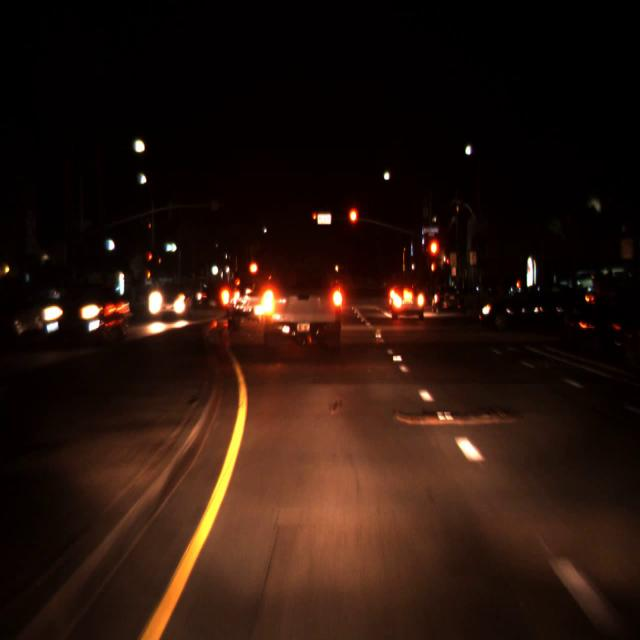stop: (427, 236, 441, 279), (347, 205, 359, 242)
stop left: (312, 212, 318, 226), (148, 252, 152, 266)
stop left traffic light: (312, 212, 318, 226), (148, 252, 152, 266)
stop traffic light: (427, 236, 441, 279), (347, 205, 359, 242)
